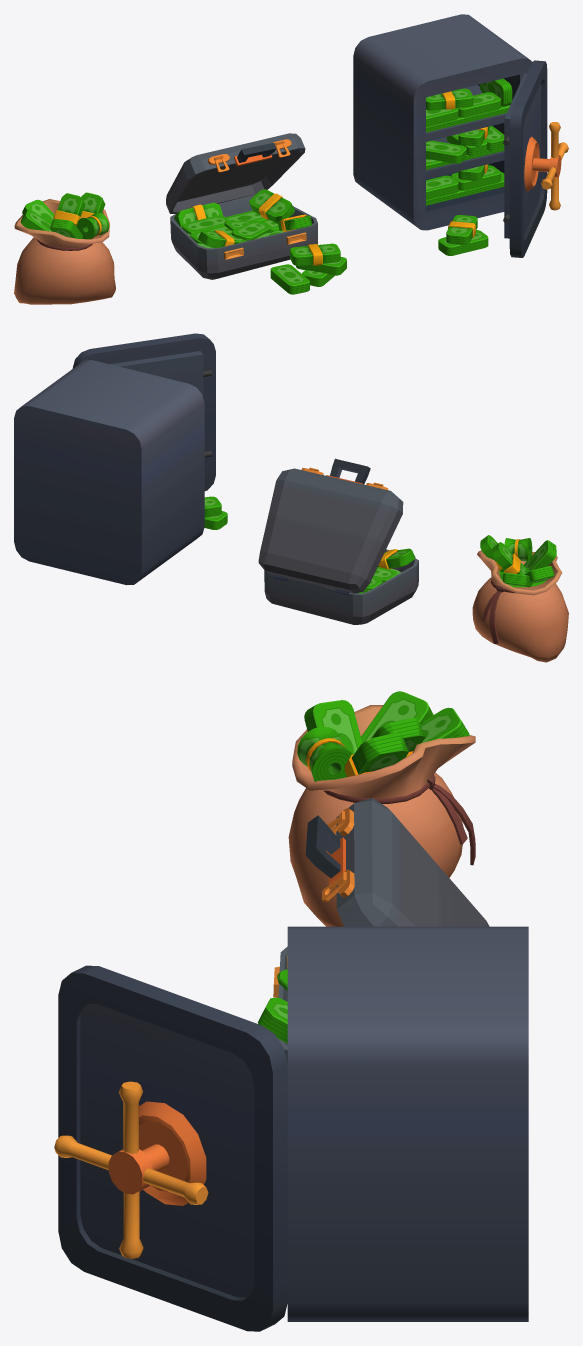
The model's file is Money.fbx.
3 views of the same model, one above another, from view 1: azimuth 30°, elevation 25°; view 2: azimuth 150°, elevation 25°; view 3: azimuth 270°, elevation 25° (orthographic). The views are drawn at different scales.
Parts seen in each view (by area): view 1: Money_Safe, Money_Suitcase, Money_Bag; view 2: Money_Safe, Money_Suitcase, Money_Bag; view 3: Money_Safe, Money_Bag, Money_Suitcase.
Boxes of the visible parts, x1=… form: Money_Safe: x1=353, y1=14, x2=568, y2=257; Money_Suitcase: x1=166, y1=133, x2=346, y2=294; Money_Bag: x1=14, y1=192, x2=115, y2=304; Money_Safe: x1=14, y1=333, x2=227, y2=585; Money_Suitcase: x1=258, y1=458, x2=418, y2=624; Money_Bag: x1=472, y1=535, x2=568, y2=662; Money_Safe: x1=54, y1=926, x2=528, y2=1331; Money_Bag: x1=288, y1=691, x2=475, y2=926; Money_Suitcase: x1=258, y1=798, x2=489, y2=1063.
Size of the model in its own units: 2289 by 664 by 939.
